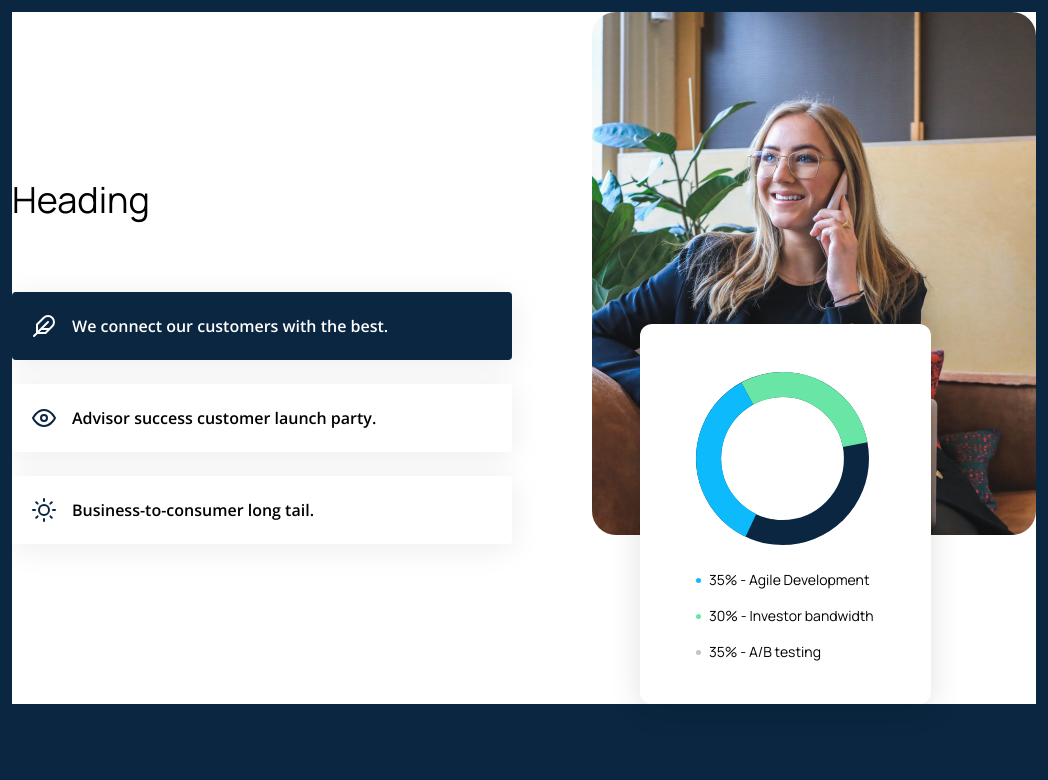
Test: FeatureTabs › supports arrow keys, Home and End, keeping one tab in the tab order
The width and height of the screenshot is (1048, 780).
Click the tab "We connect our customers with the best." at [262, 326], box [12,292,512,360]
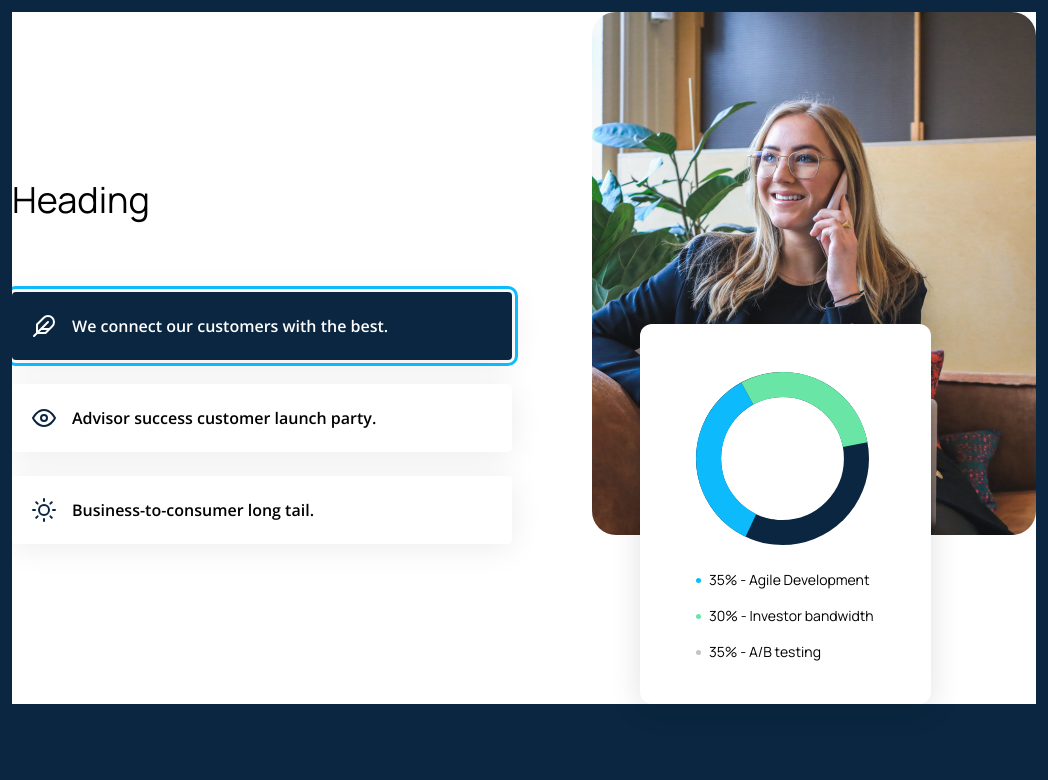
Press Arrowdown
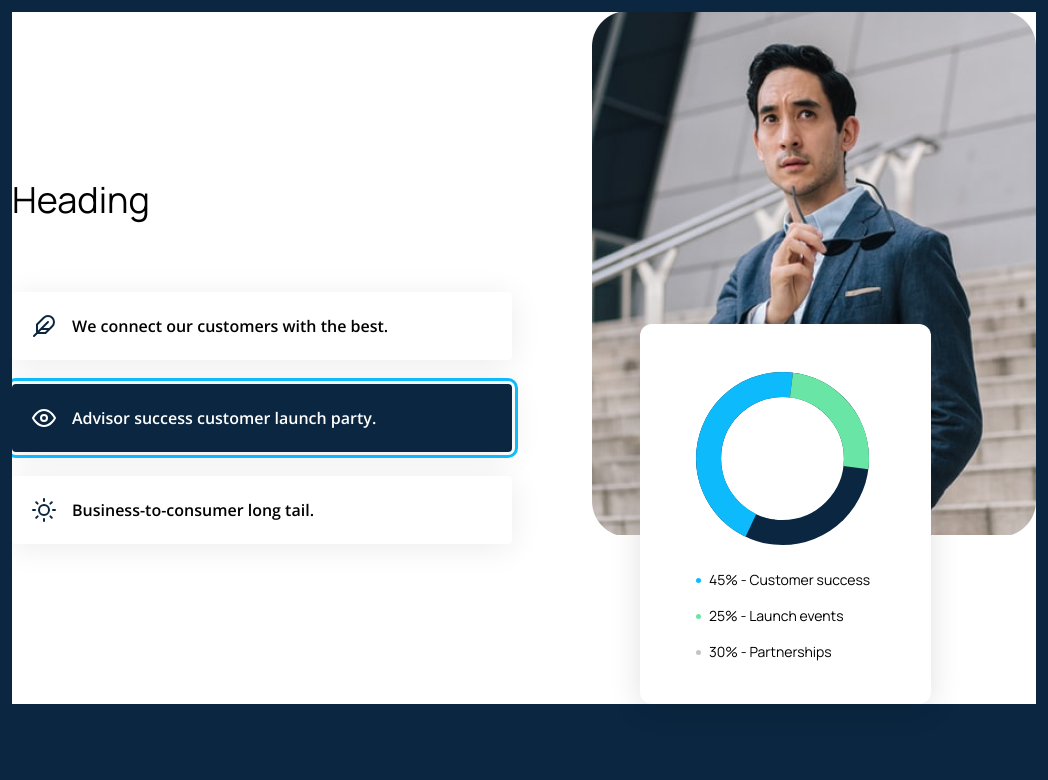
expect the tab "Advisor success customer launch party." is selected: met, box [12,384,512,452]
Press End
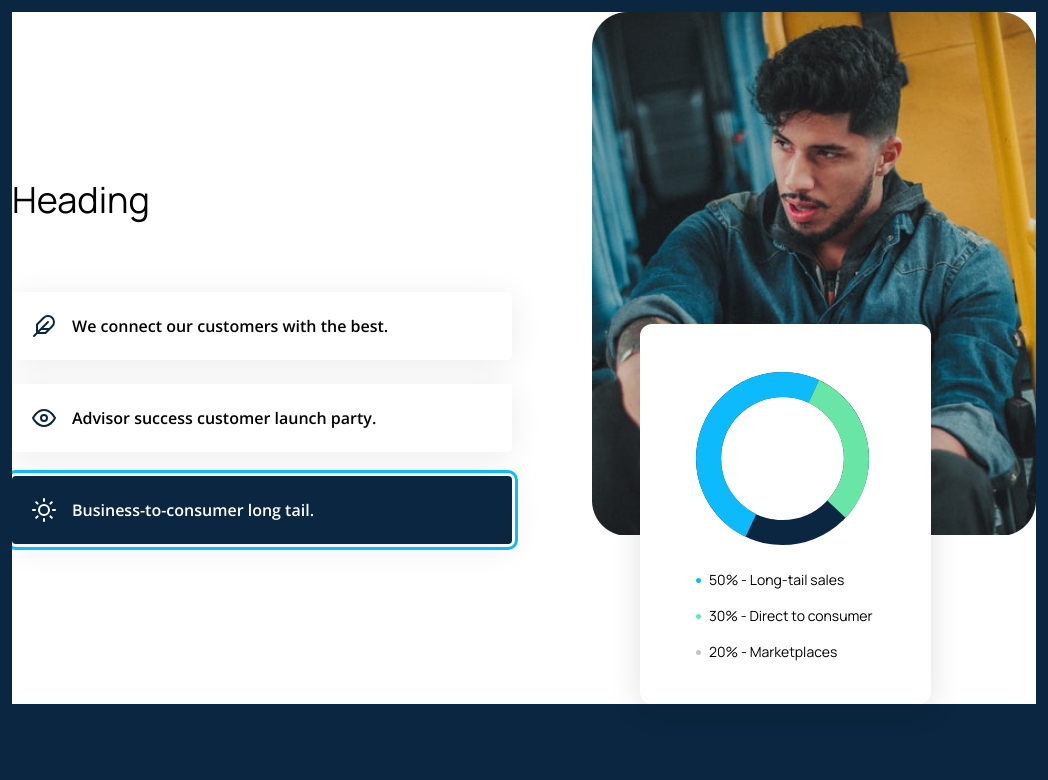
Press Arrowdown
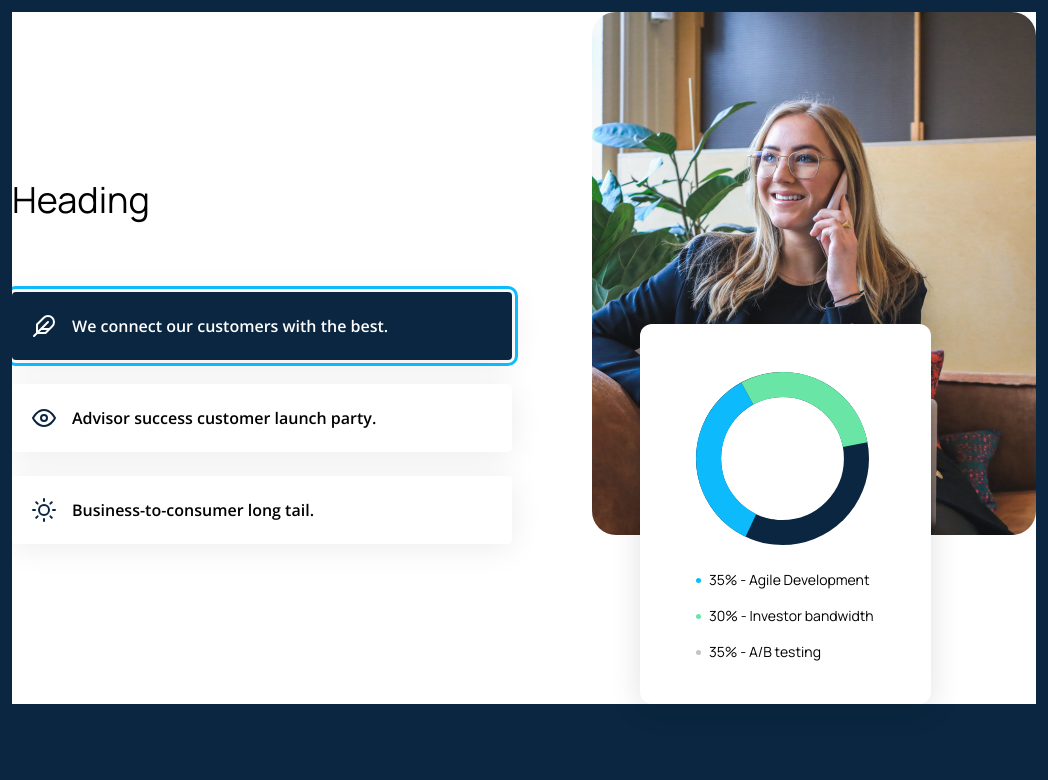
Press Arrowup
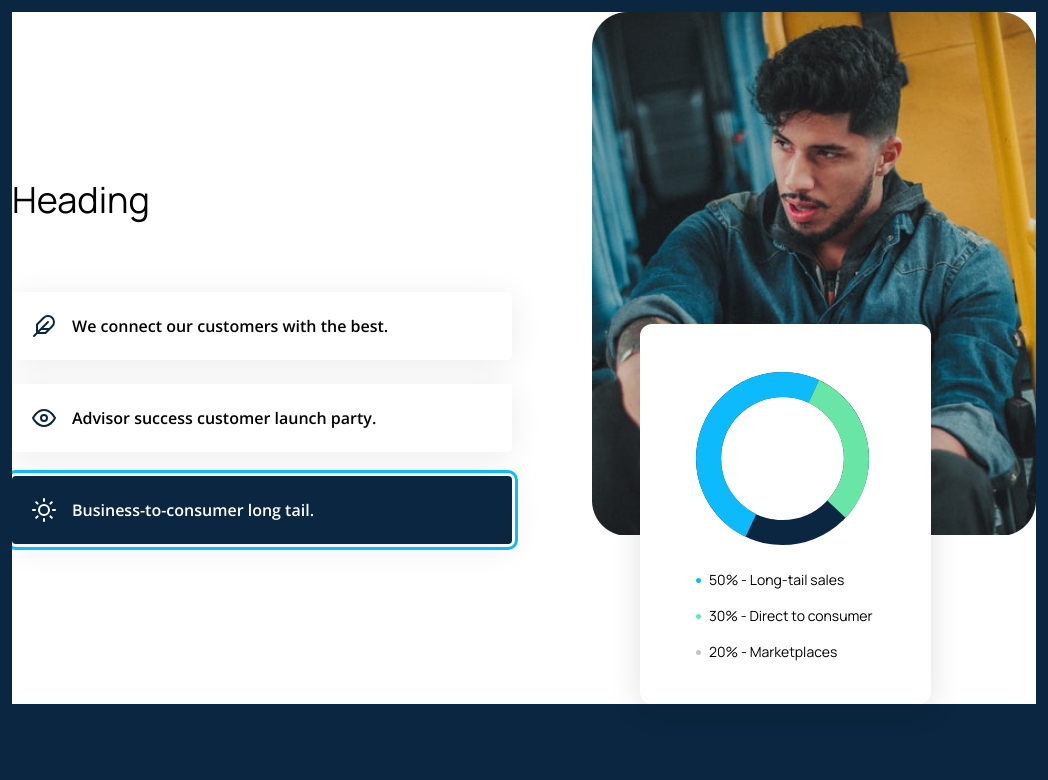
Press Home
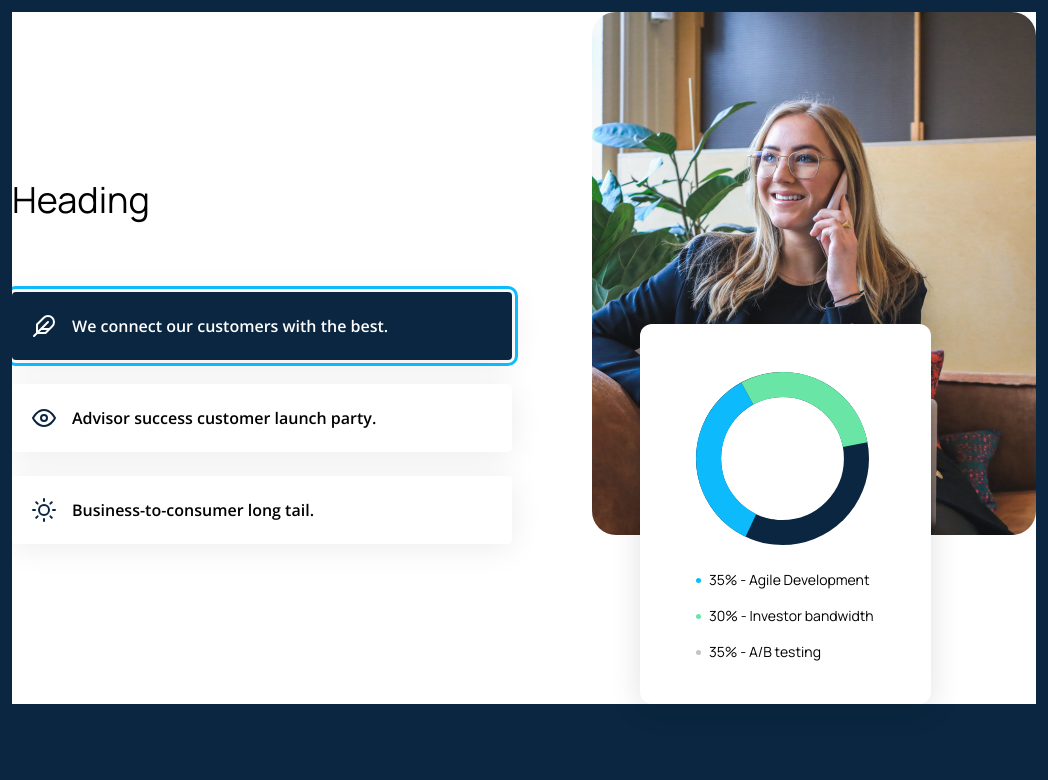
expect the tab "We connect our customers with the best." is selected: met, box [12,292,512,360]
